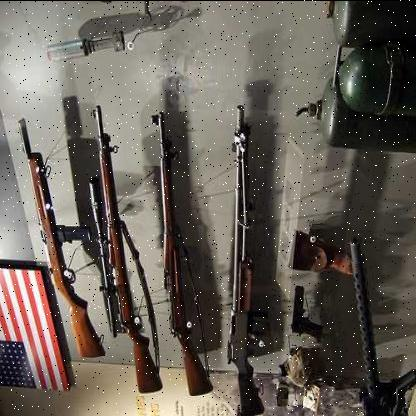rifle: (2, 80, 101, 373), (209, 85, 282, 416), (141, 98, 219, 405), (85, 90, 161, 403)
